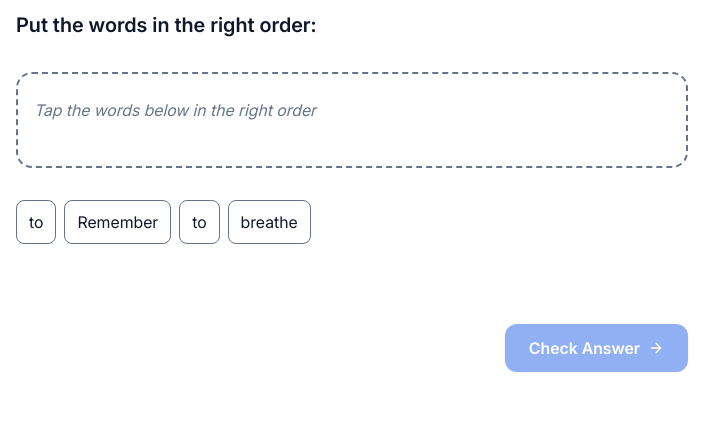
Test: ExerciseReorder › cannot be checked until every word is placed
This screenshot has width=705, height=434.
Expected: the button "Check Answer" is disabled, [505,324,688,372]
What coordinates should you click on to do the following:
click the 1st button "to"
I would click on:
 (36, 222)
Its box is [16,200,56,244].
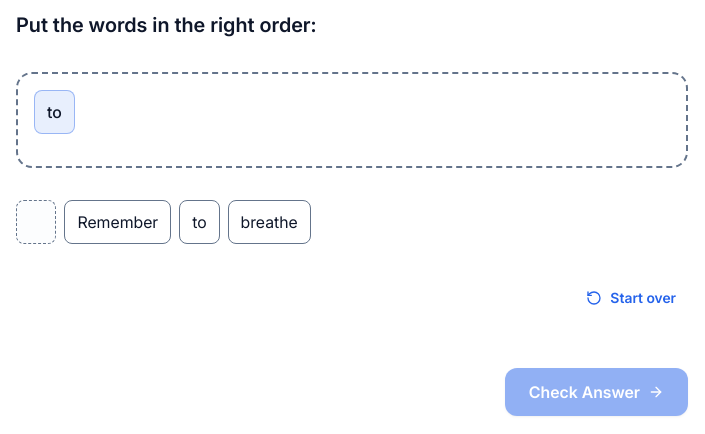
What coordinates should you click on to do the following:
click the button "Remember"
I would click on:
 (118, 222)
Its box is [64,200,171,244].
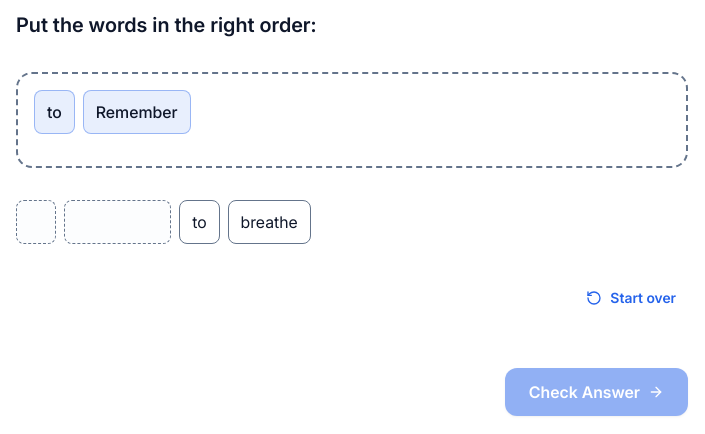
What coordinates should you click on to do the following:
click the 3rd button "to"
I would click on:
 (199, 222)
Its box is [179,200,220,244].
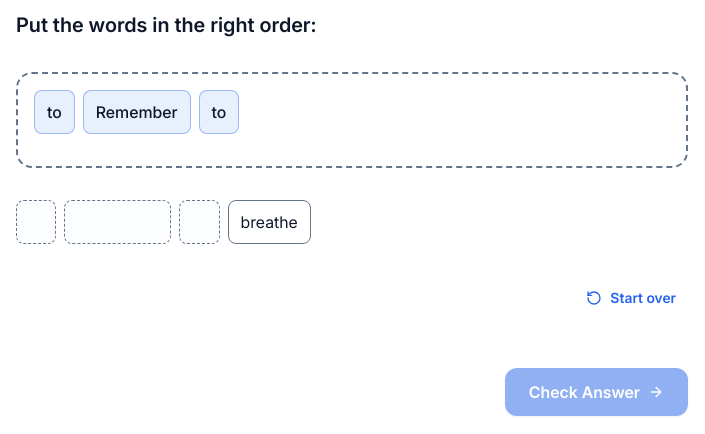
What coordinates should you click on to do the following:
click the button "breathe"
I would click on:
 (269, 222)
Its box is [228,200,311,244].
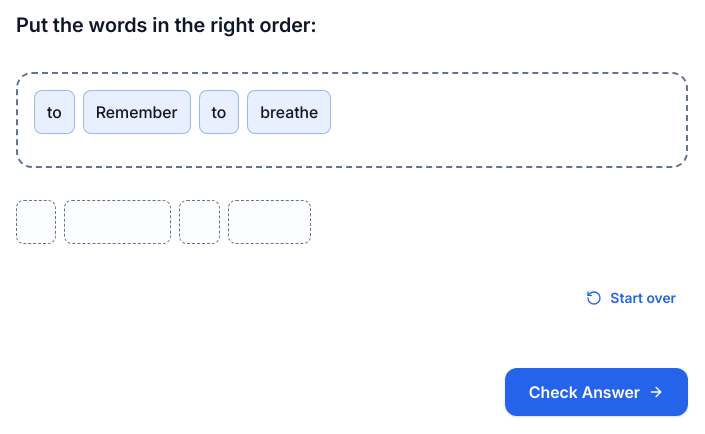
Result: the button "Check Answer" is enabled at [505,368,688,416]
